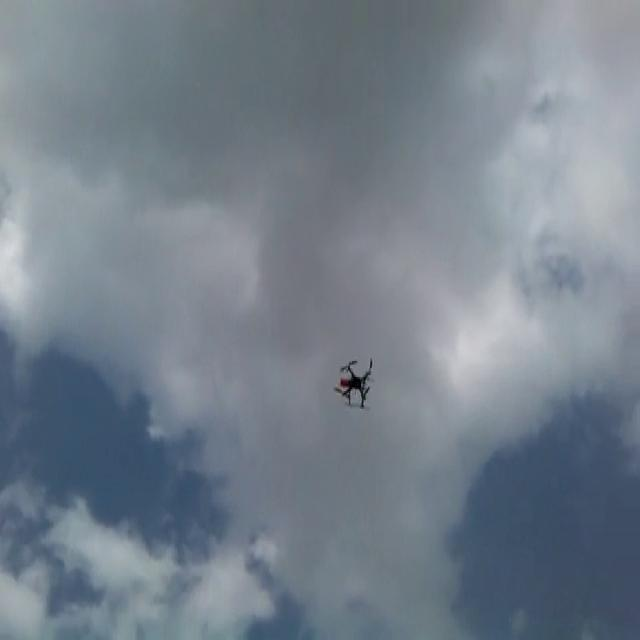drone: (330, 350, 376, 416)
